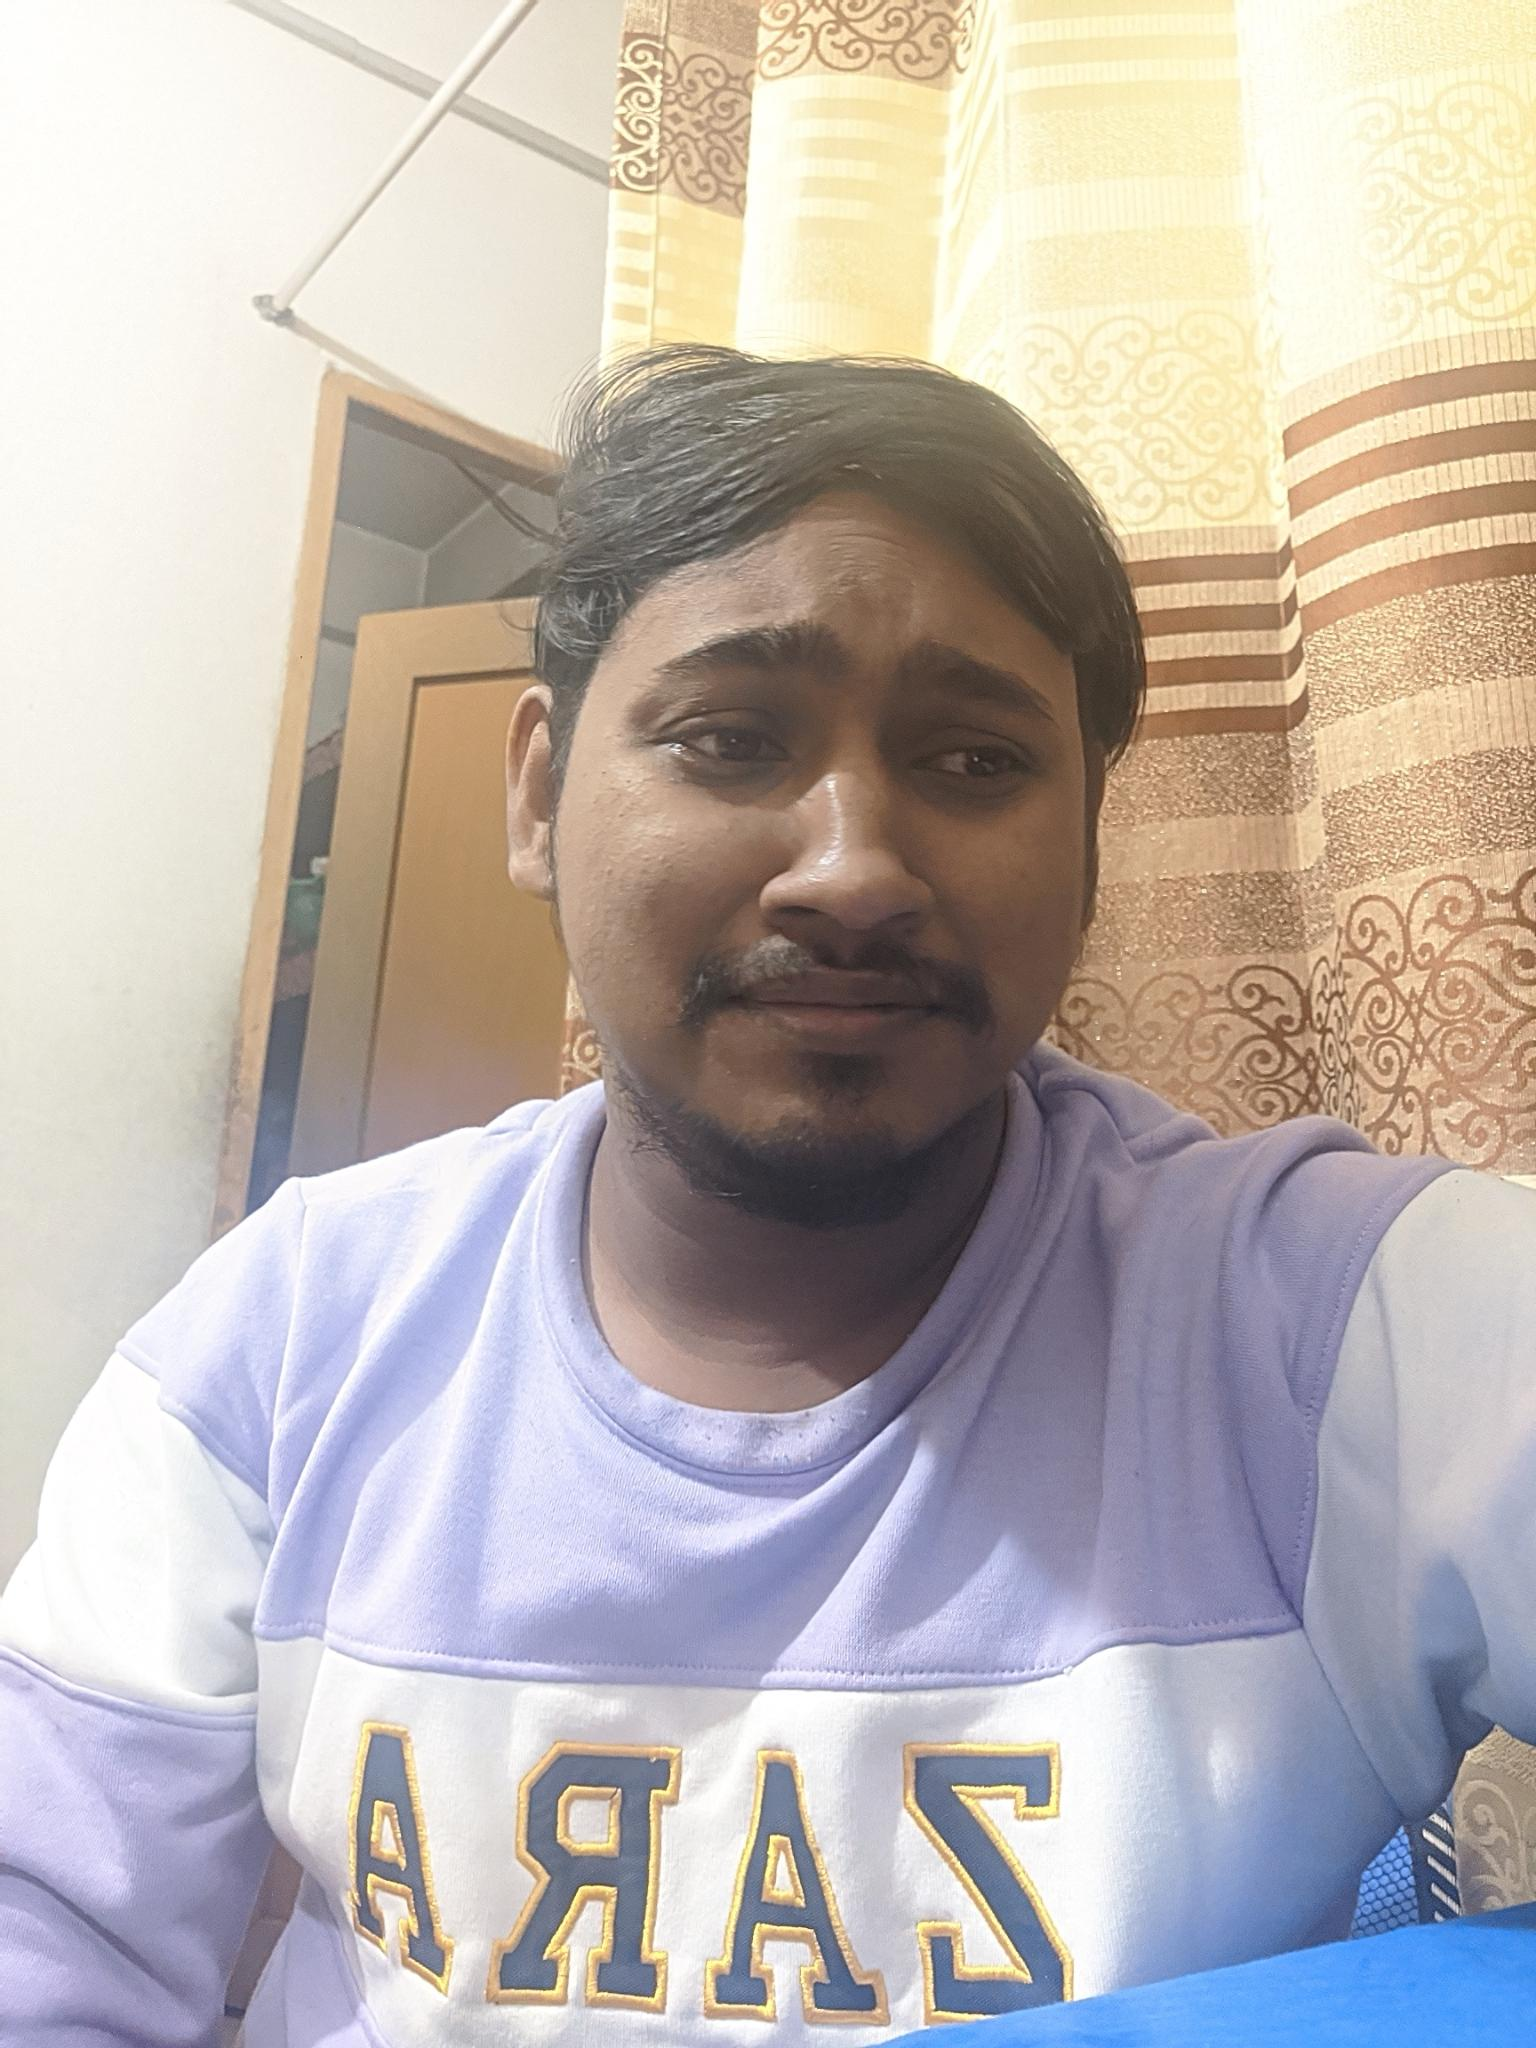Sad: (616, 561, 1087, 1177)
